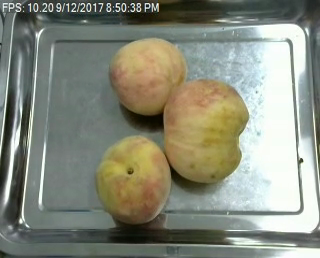Peach: (162, 77, 248, 184), (94, 134, 172, 224), (110, 37, 187, 116)
